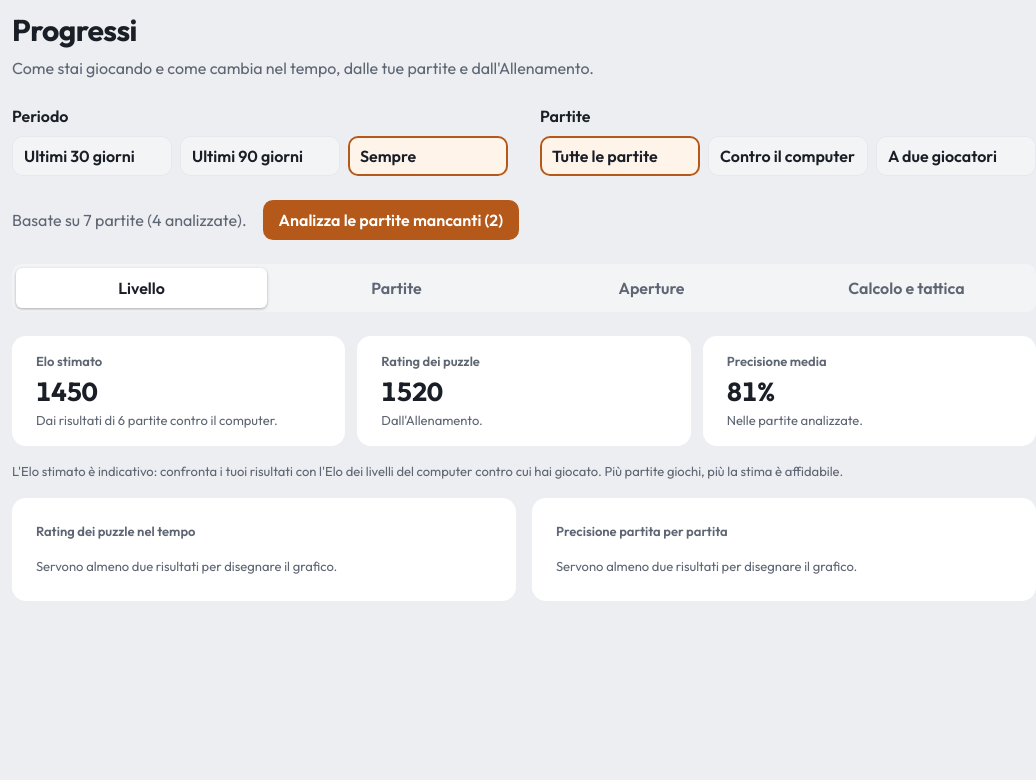
Test: ProgressPage › passa da una scheda all’altra
Expected: the text "1450" is shown, x1=36 y1=374 x2=97 y2=408
Click the tab "Partite".
click(396, 288)  # box x1=271 y1=268 x2=522 y2=308
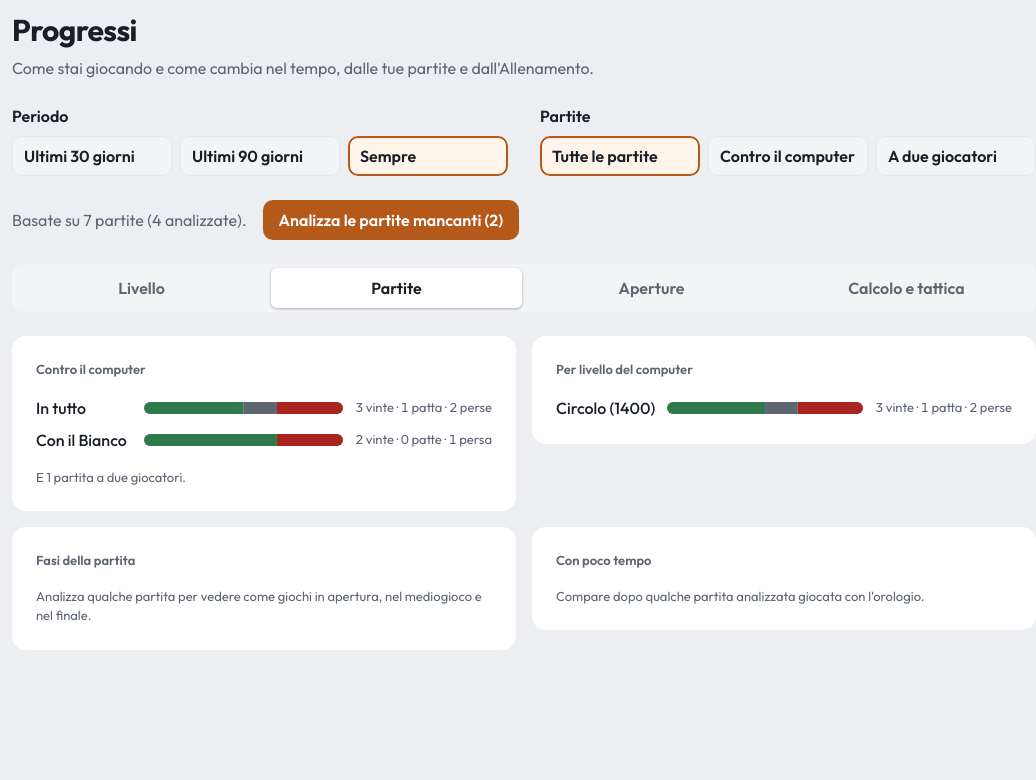
Result: the text "Circolo (1400)" is shown at x1=556 y1=396 x2=655 y2=420
Click the tab "Aperture".
click(652, 288)  # box x1=526 y1=268 x2=777 y2=308
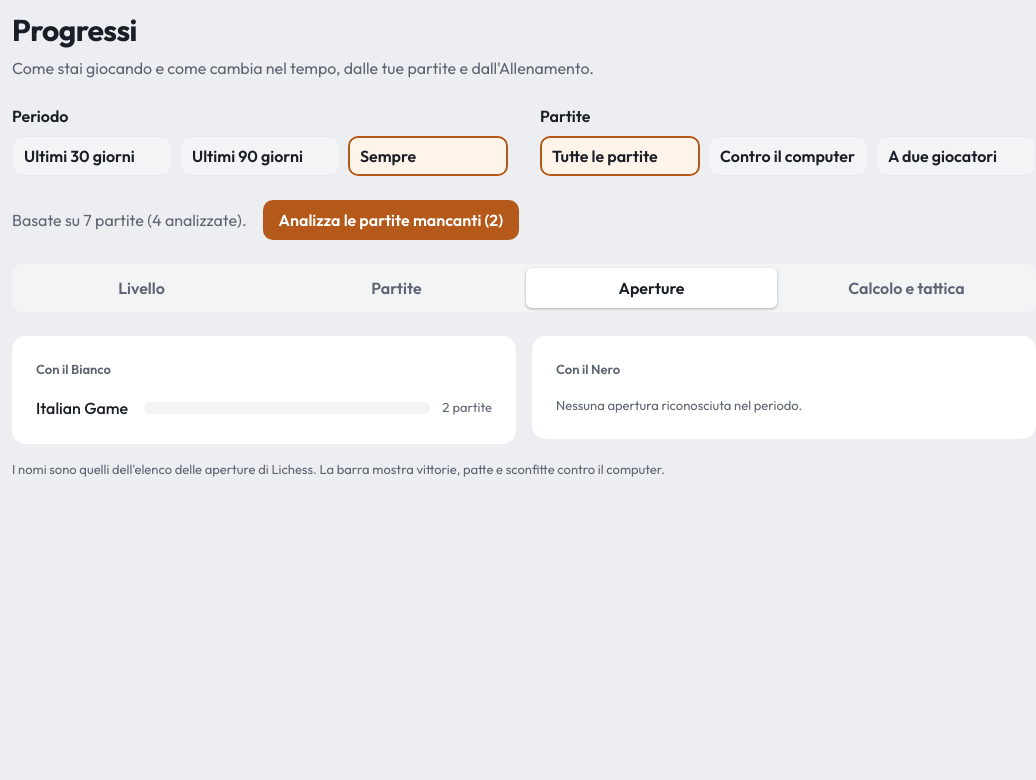
Result: the text "Italian Game" is shown at x1=36 y1=396 x2=132 y2=420
Click the tab "Calcolo e tattica".
click(906, 288)  # box x1=781 y1=268 x2=1032 y2=308
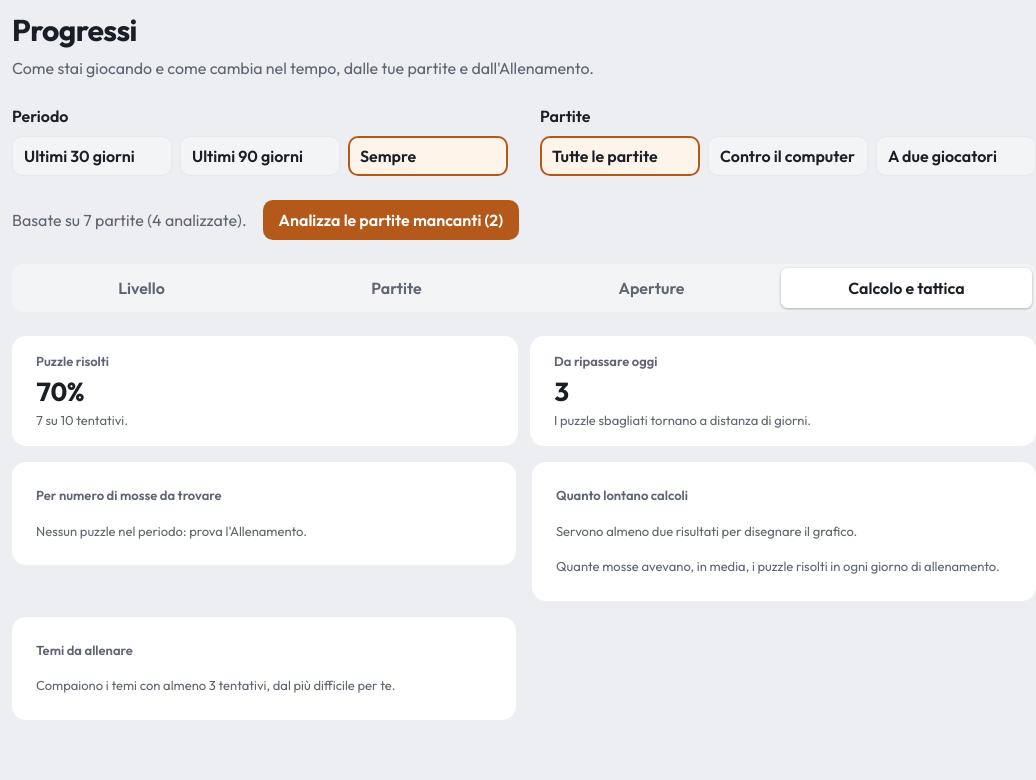
Result: the text "70%" is shown at x1=36 y1=374 x2=84 y2=408
